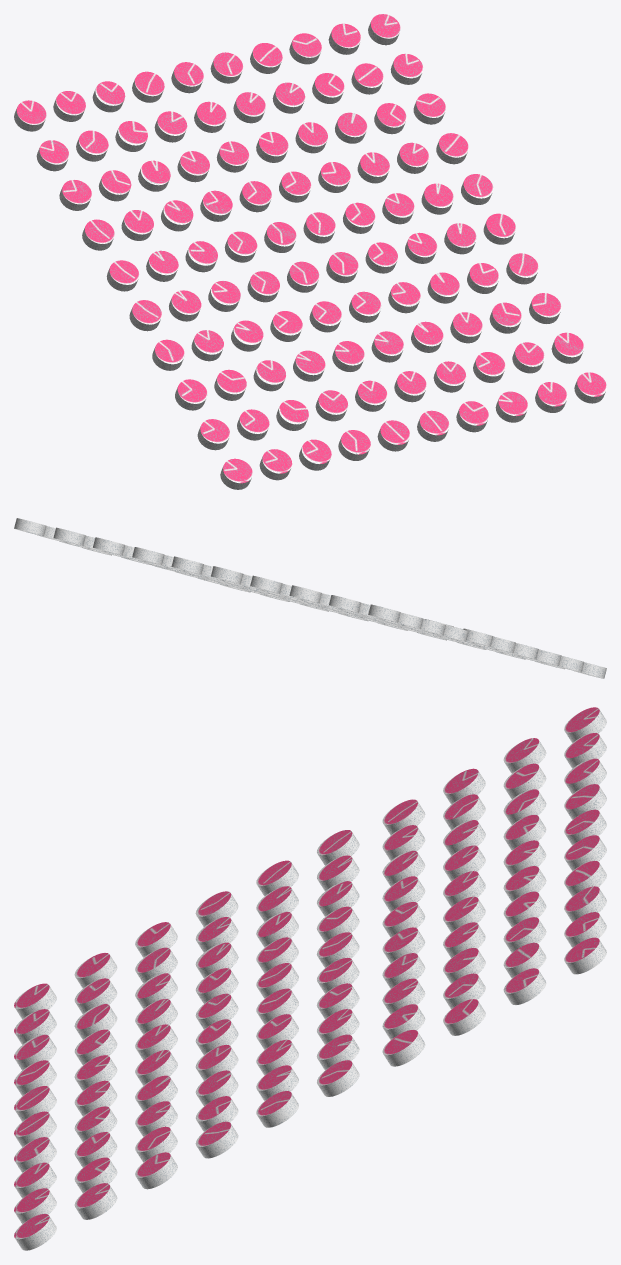
The picture shows the model from 3 angles, top to bottom: view 1: azimuth 30°, elevation 25°; view 2: azimuth 150°, elevation 25°; view 3: azimuth 270°, elevation 25°; orthographic projection. The views are drawn at different scales.
Visible parts, largest first — view 1: no part large enough to name; view 2: SketchUp (×19); view 3: no part large enough to name.
Boxes of the visible parts, x1,y1,x2,y2 form: SketchUp (×19): (14, 518, 606, 678).
Bounding box in the file's own units: 121 × 122 × 69.77.
3 materials, 1 textured.
